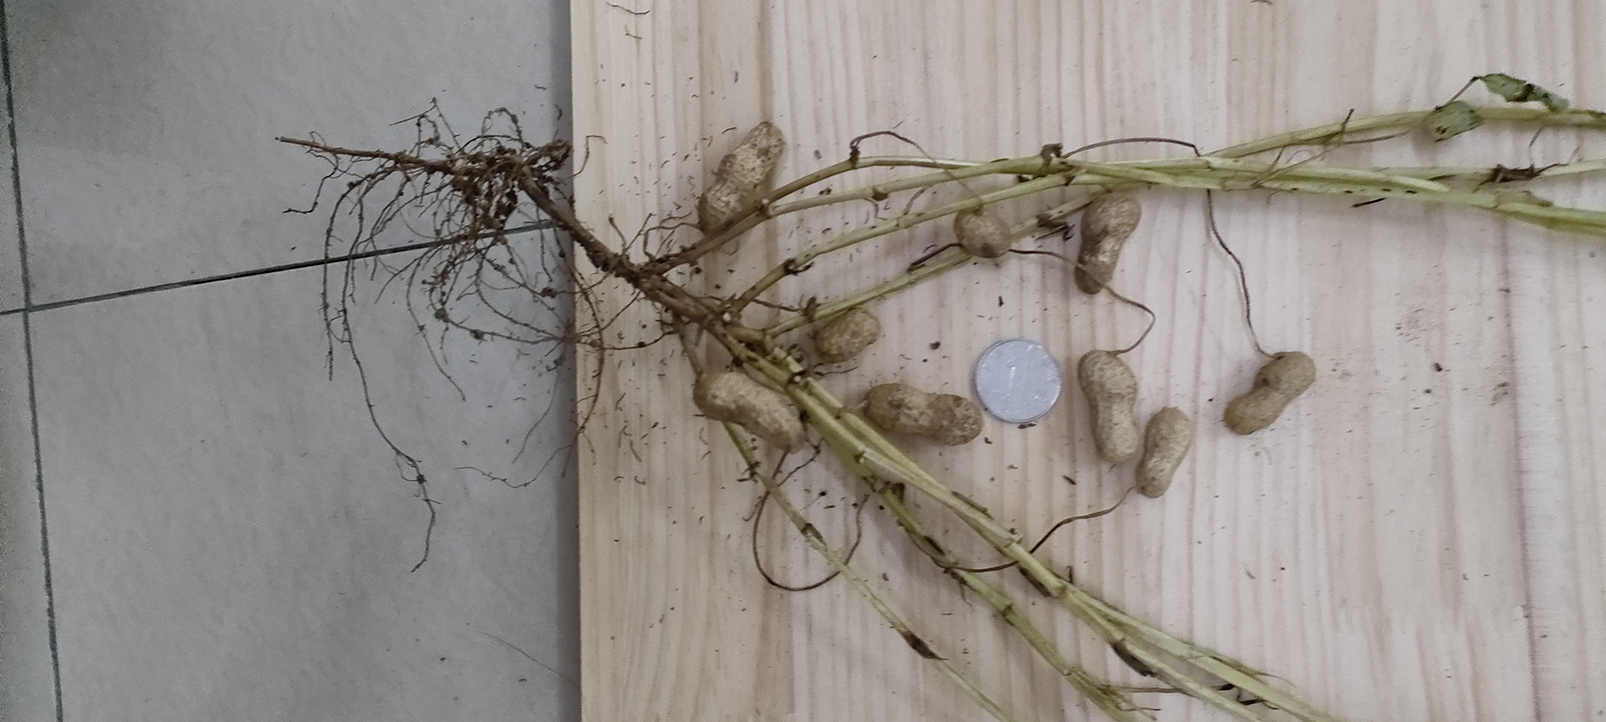h: (698, 120, 785, 233), (694, 366, 806, 451), (1224, 350, 1316, 434), (863, 383, 984, 445), (1077, 350, 1140, 465), (1137, 407, 1193, 498), (813, 305, 880, 362), (954, 209, 1013, 256)
l: (1076, 190, 1145, 295)
